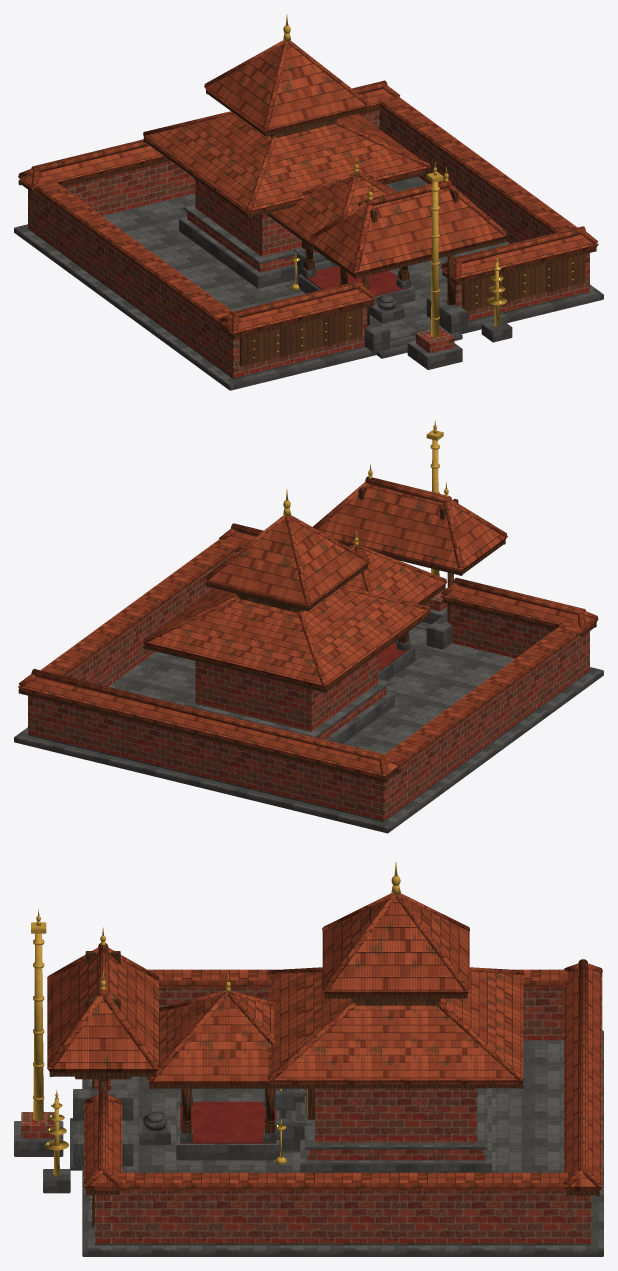
File: kerala_temple.glb
The picture shows the model from 3 angles, top to bottom: view 1: azimuth 30°, elevation 25°; view 2: azimuth 150°, elevation 25°; view 3: azimuth 270°, elevation 25°; orthographic projection. The views are drawn at different scales.
Visible parts, largest first — view 1: kerala_temple; view 2: kerala_temple; view 3: kerala_temple.
Boxes of the visible parts, x1=… form: kerala_temple: x1=14, y1=14, x2=603, y2=390; kerala_temple: x1=14, y1=419, x2=603, y2=833; kerala_temple: x1=14, y1=862, x2=603, y2=1256.
Size of the model in its own units: 14.3 by 8.61 by 16.18.
Materials: 8 (7 with a texture image).
